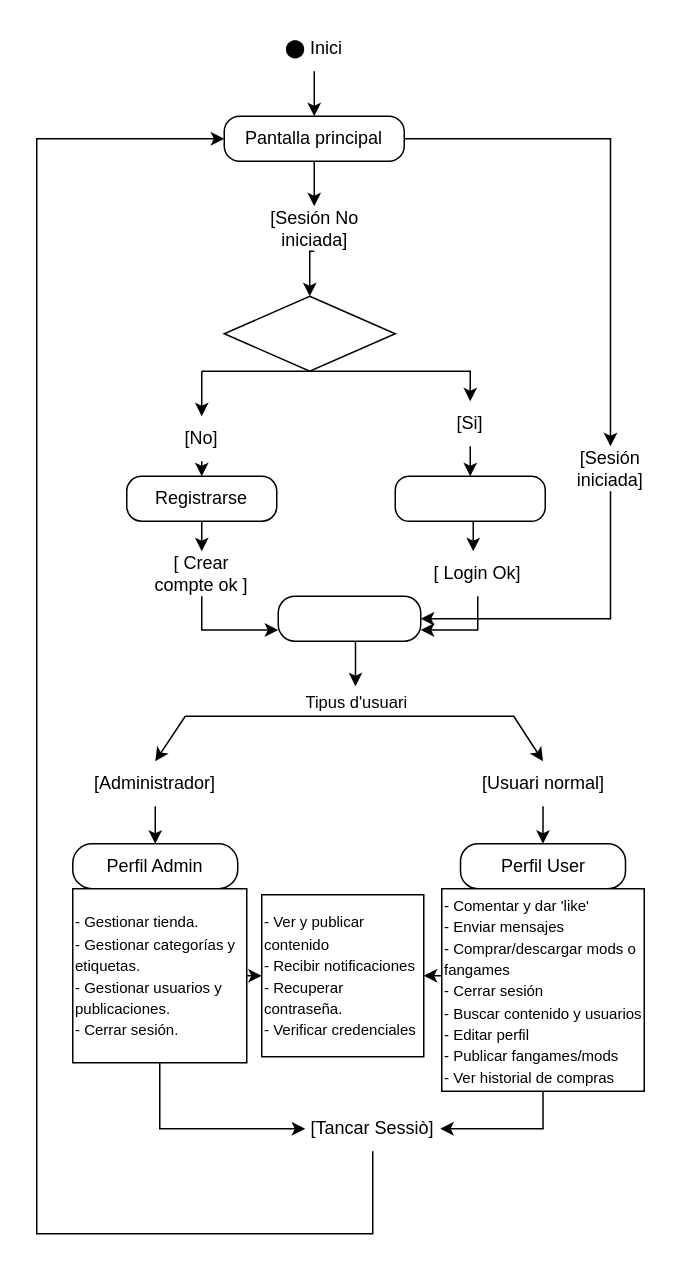
The diagram is 686 pixels wide and 1272 high, and some of its shapes have lost their labels. The shapes that lost their labels are listed below. From the top down, each one's centre as x and y in pixels, then its label:
At pixel 309 333: "Ja tens compte?".
At pixel 469 498: "Inici de sessió".
At pixel 349 618: "Usuari Autenticat".
